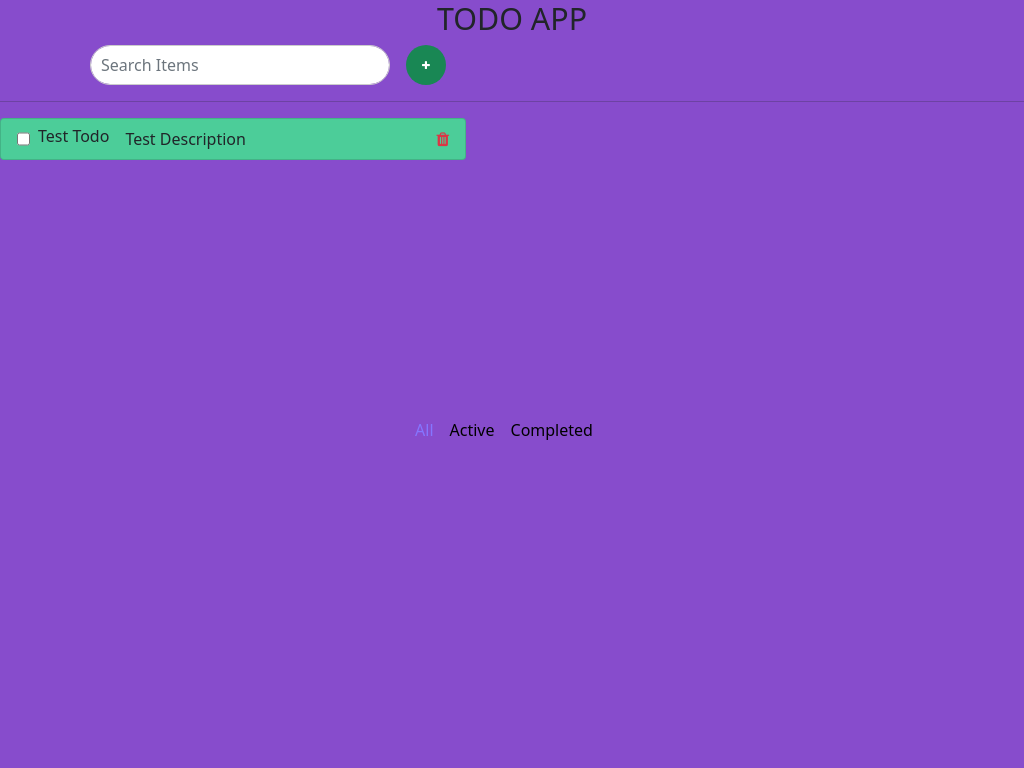
it: should able to delete todo
The image size is (1024, 768).
Click the icon with test id "delete-icon-1" at (443, 138), box top-left (436, 130), bottom-right (449, 146)
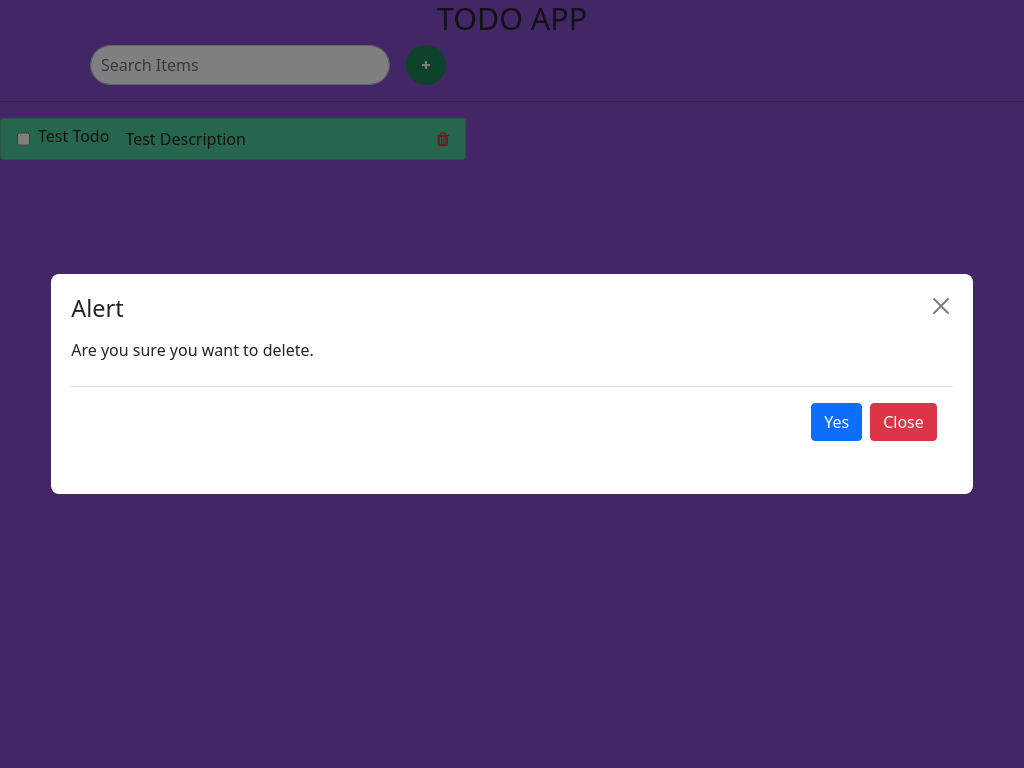
Result: the text "Are you sure you want to delete." is shown at top-left (71, 339), bottom-right (314, 361)
Click the button "Yes" at (837, 422), box top-left (811, 403), bottom-right (862, 441)
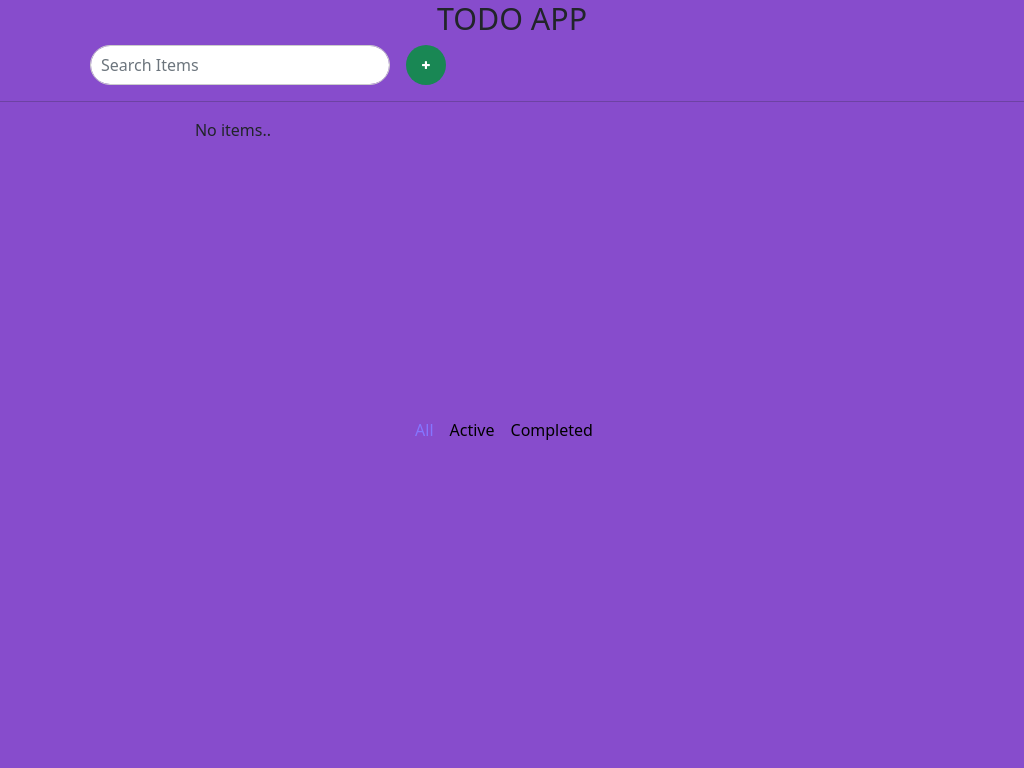
Result: the heading "Test Todo" is gone
